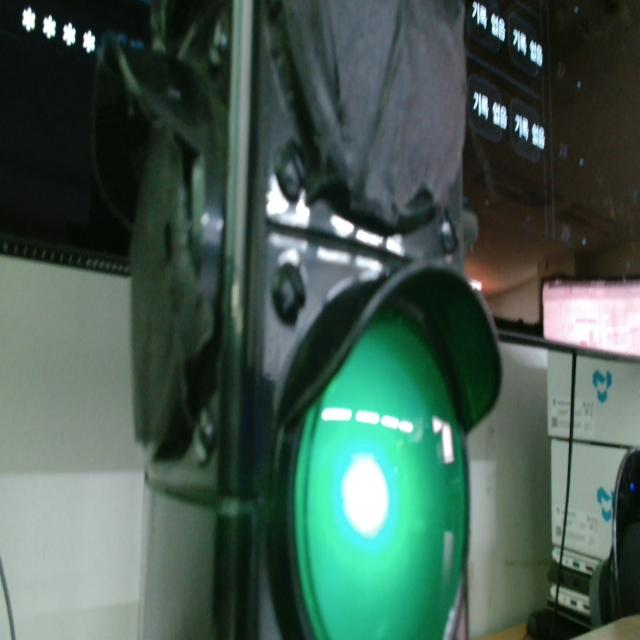green_light: (295, 312, 467, 639), (342, 454, 389, 538)
